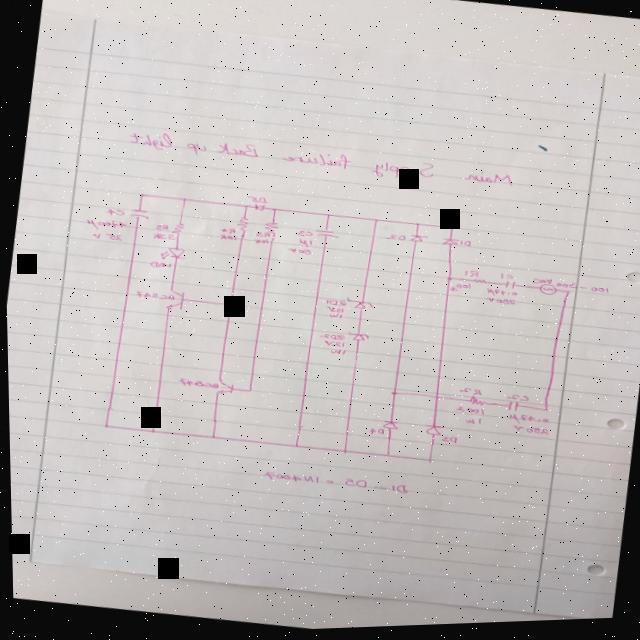capacitor: (312, 228, 340, 242), (126, 207, 150, 220), (499, 282, 517, 294), (504, 402, 519, 416)
crossover: (430, 397, 440, 402)
diode: (156, 245, 188, 263), (343, 297, 374, 313), (419, 424, 442, 439), (345, 332, 368, 344), (406, 235, 429, 246), (379, 421, 398, 433), (439, 239, 459, 249), (251, 203, 266, 213)
junction: (420, 458, 433, 467), (443, 277, 454, 285), (380, 453, 390, 460), (386, 392, 397, 398), (145, 428, 156, 434), (338, 450, 348, 456), (223, 303, 233, 309), (99, 423, 109, 429), (243, 388, 252, 394), (179, 197, 188, 203), (241, 204, 250, 210), (540, 410, 548, 416), (136, 192, 144, 198), (269, 208, 278, 213), (370, 220, 379, 225), (446, 228, 455, 233), (290, 444, 298, 449), (206, 435, 214, 440), (562, 293, 570, 298), (323, 214, 331, 219), (412, 224, 420, 229)
resistor: (464, 396, 488, 410), (234, 216, 250, 234), (167, 221, 186, 236), (262, 221, 280, 236), (468, 279, 488, 289)
source: (535, 285, 556, 300)
text: (126, 117, 516, 205), (260, 466, 407, 500), (530, 277, 608, 299), (84, 215, 127, 233), (505, 414, 548, 432), (175, 376, 218, 392), (134, 290, 174, 303), (508, 426, 548, 439), (484, 290, 517, 303), (89, 230, 122, 242), (482, 298, 516, 309), (452, 407, 484, 418), (448, 282, 471, 296), (315, 333, 345, 343), (284, 247, 312, 257), (456, 388, 481, 399), (150, 232, 175, 242), (503, 395, 528, 405), (244, 196, 268, 206), (104, 207, 125, 218), (383, 234, 406, 244), (148, 260, 171, 270), (323, 299, 346, 309), (321, 340, 344, 349), (295, 239, 313, 250), (364, 428, 383, 438), (461, 418, 480, 428), (216, 233, 237, 242), (461, 271, 479, 281), (438, 437, 457, 446), (326, 349, 345, 358), (253, 231, 270, 240), (219, 227, 236, 236), (294, 231, 313, 239), (324, 307, 343, 315), (252, 238, 269, 246), (457, 241, 472, 250), (498, 275, 513, 284), (153, 223, 168, 231), (326, 313, 341, 321)
transistor: (161, 287, 185, 312), (210, 377, 235, 397)
